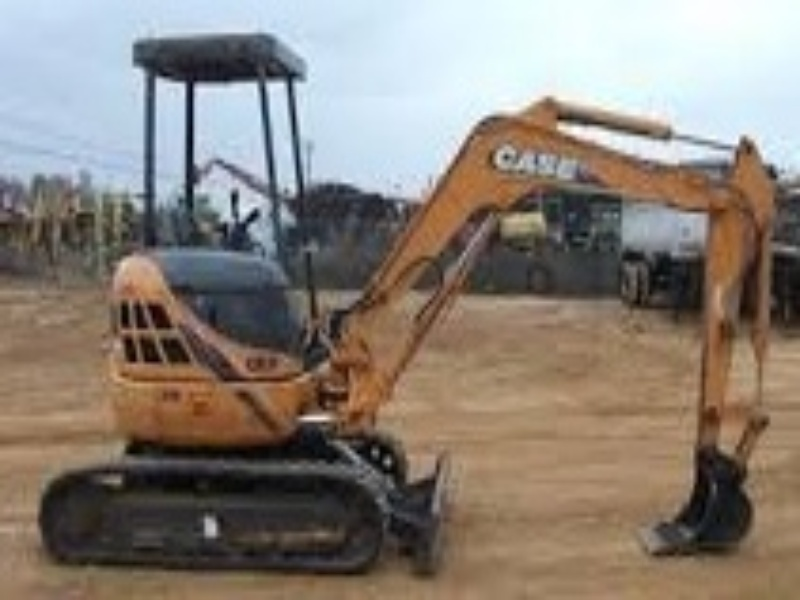wajueji: (24, 14, 558, 600)
